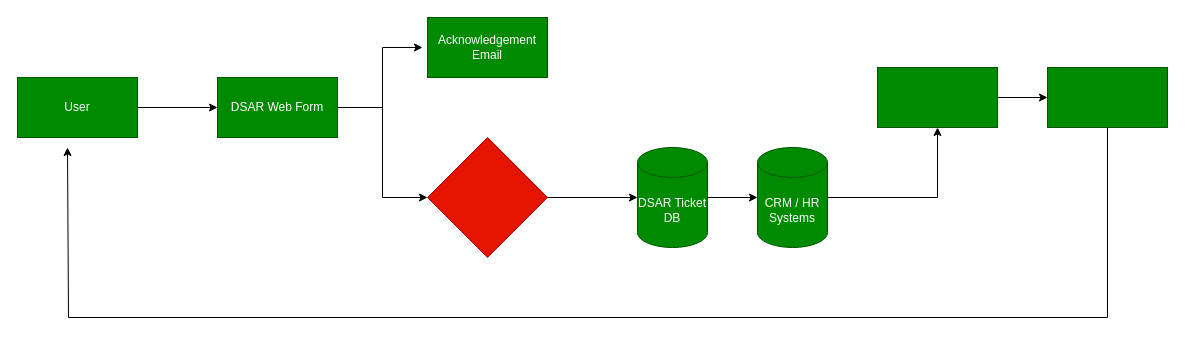
This 1185x343 diagram has some shape labels left out. Here are the shapes that lost their labels. From the top down, the centre of each, then its label:
(937,97): Privacy Team
(1107,97): Final Response Email
(487,197): Identity Verification
